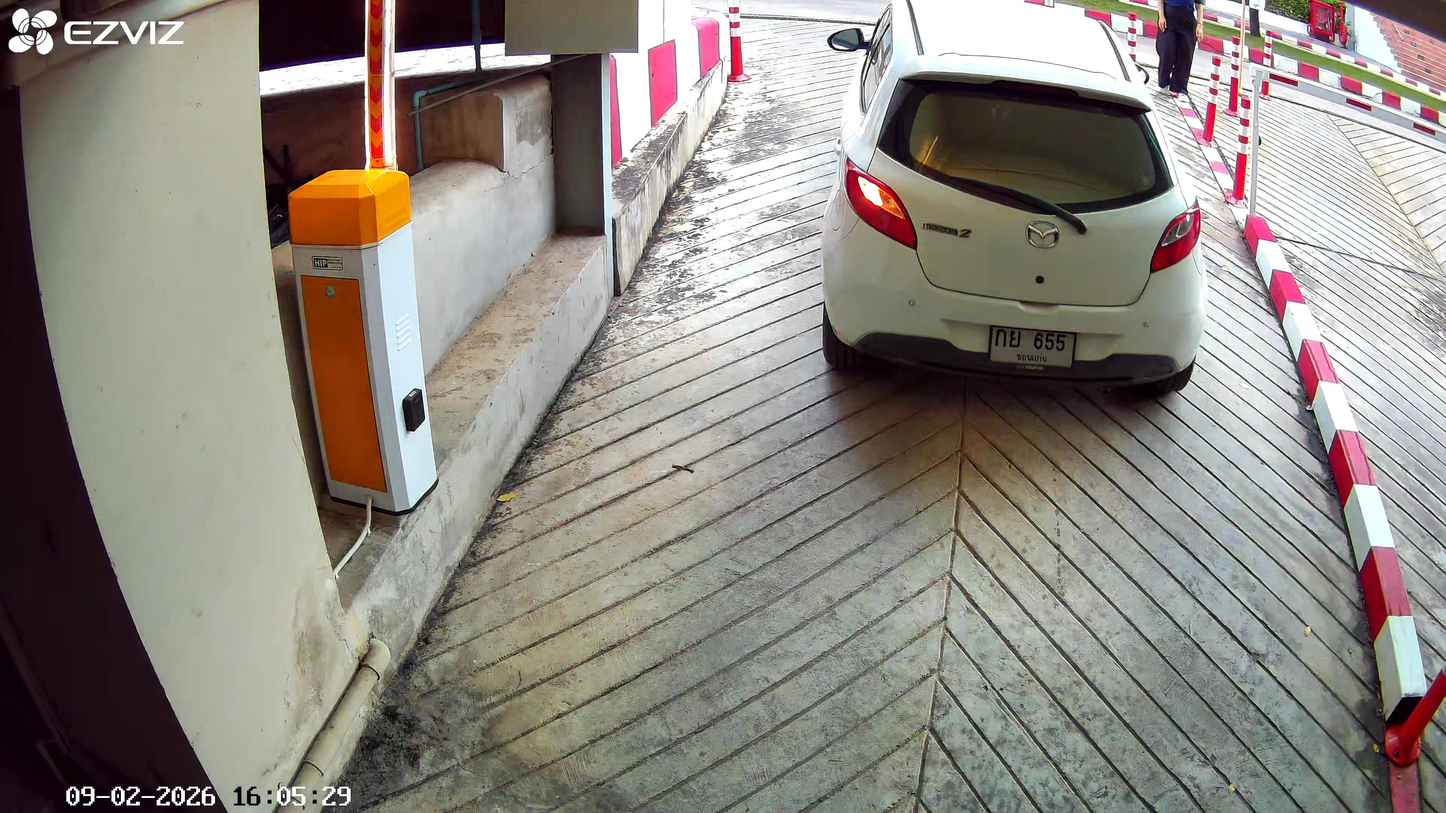car: (819, 4, 1208, 401)
license-plate: (986, 323, 1077, 373)
